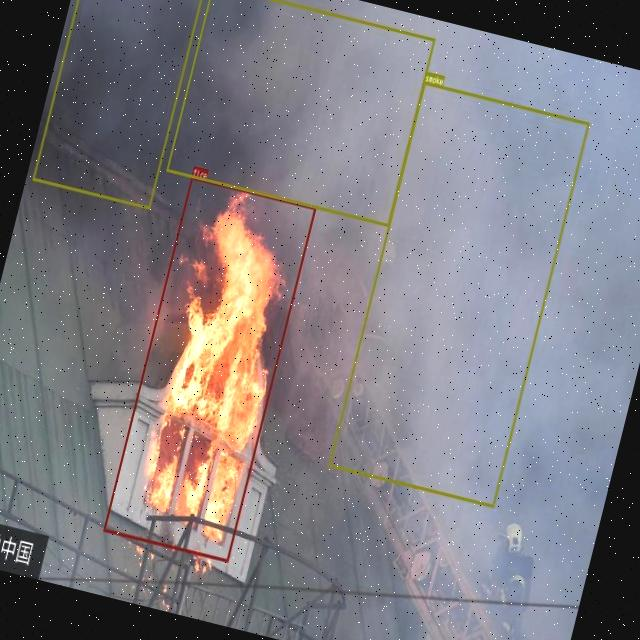fire: (102, 175, 316, 561)
smoke: (328, 80, 589, 507), (165, 0, 434, 226), (31, 0, 206, 208)
